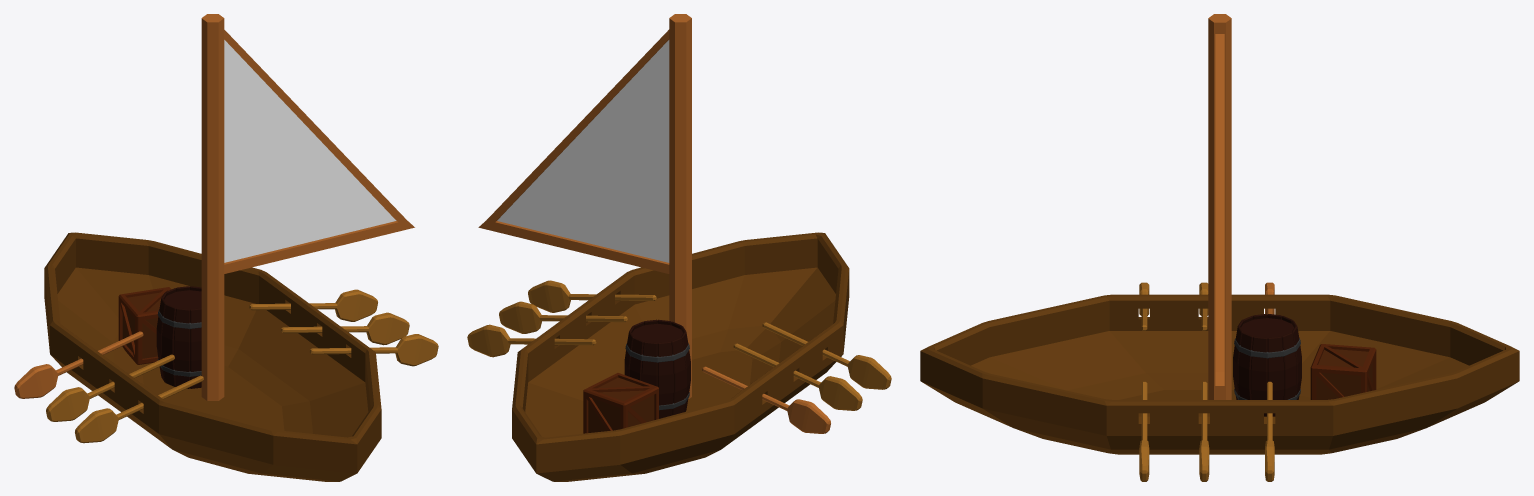
The model's file is Boot.fbx.
3 views of the same model, side by side, from view 1: azimuth 30°, elevation 25°; view 2: azimuth 150°, elevation 25°; view 3: azimuth 270°, elevation 25° (orthographic). The views are drawn at different scales.
Visible parts, largest first — view 1: boot, Cube.001, Cube.002, Cube.003, Cube.006, Cube.004, Cube.005; view 2: boot, Cube.001, Cube.002, Cube.003, Cube.005, Cube.004, Cube.006; view 3: boot, Cube.004, Cube.006, Cube.005.
Part boxes in pixels (bbox=[...]): boot: bbox=[44, 14, 414, 481]; Cube.001: bbox=[46, 354, 174, 421]; Cube.002: bbox=[14, 331, 143, 398]; Cube.003: bbox=[75, 375, 203, 443]; Cube.006: bbox=[309, 334, 438, 366]; Cube.004: bbox=[281, 312, 409, 345]; Cube.005: bbox=[249, 289, 377, 321]; boot: bbox=[478, 14, 849, 481]; Cube.001: bbox=[733, 343, 862, 410]; Cube.002: bbox=[702, 366, 830, 433]; Cube.003: bbox=[762, 322, 891, 389]; Cube.005: bbox=[467, 324, 596, 357]; Cube.004: bbox=[499, 301, 627, 333]; Cube.006: bbox=[528, 280, 656, 312]; boot: bbox=[920, 14, 1519, 454]; Cube.004: bbox=[1199, 381, 1209, 481]; Cube.006: bbox=[1139, 381, 1149, 481]; Cube.005: bbox=[1265, 381, 1274, 481].
Bounding box in the file's own units: 334 × 343 × 447.
